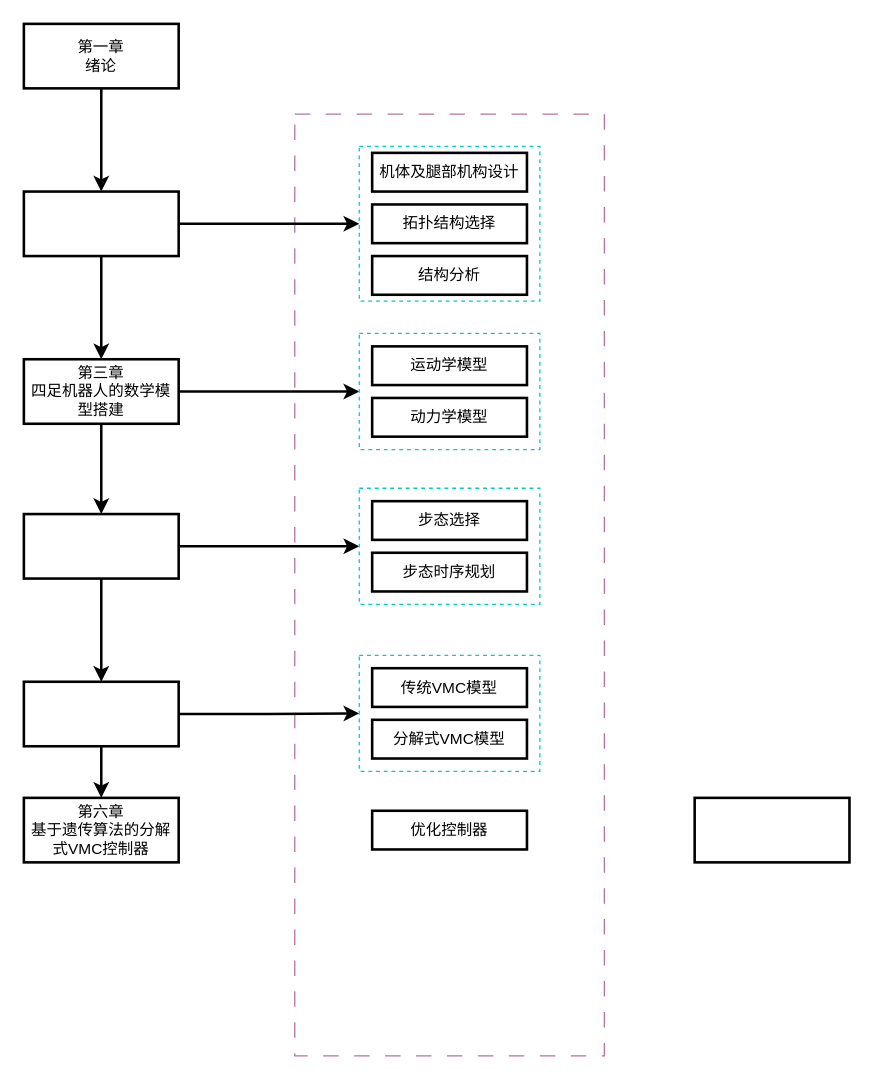
This 872x1078 diagram has some shape labels left out. Here are the shapes that lost their labels. From the top down, the box of each, then its label:
(22, 190, 179, 257): 第二章 四足机器人结构设计
(22, 512, 179, 579): 第四章 四足步态研究
(22, 680, 179, 747): 第五章 控制方法研究
(693, 796, 850, 863): 第七章 控制仿真分析
